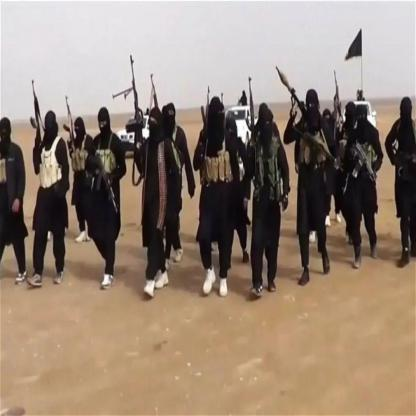rifle: (292, 122, 341, 171), (272, 61, 312, 118), (242, 76, 261, 178), (124, 54, 145, 146), (91, 150, 121, 214), (351, 139, 378, 189), (26, 80, 46, 140), (61, 97, 80, 158), (148, 70, 162, 120)
